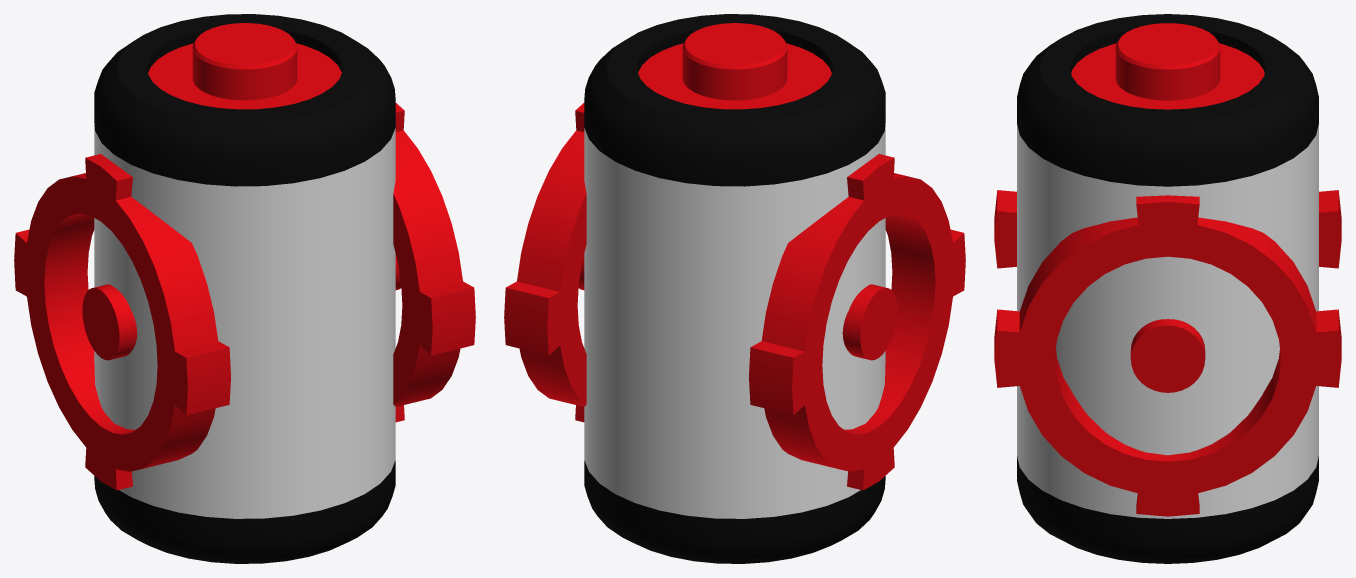
Rendered from Boost 2.fbx.
3 views of the same model, side by side, from view 1: azimuth 30°, elevation 25°; view 2: azimuth 150°, elevation 25°; view 3: azimuth 270°, elevation 25° (orthographic).
Parts seen in each view (by area): view 1: Cylinder.022, Cylinder.023; view 2: Cylinder.022, Cylinder.023; view 3: Cylinder.022, Cylinder.023.
Boxes of the visible parts, x1,y1,x2,y2 form: Cylinder.022: (94,14,395,563); Cylinder.023: (14,103,475,490); Cylinder.022: (584,14,885,563); Cylinder.023: (504,103,965,490); Cylinder.022: (1017,14,1318,563); Cylinder.023: (994,190,1341,516).
Bounding box in the file's own units: 0.44 × 0.68 × 0.46.
